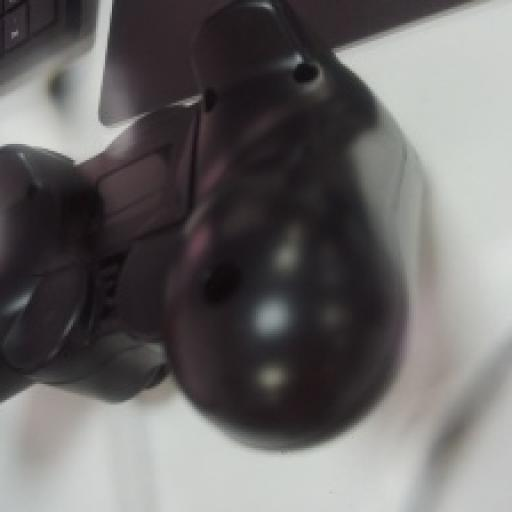game pad: (0, 0, 418, 448)
